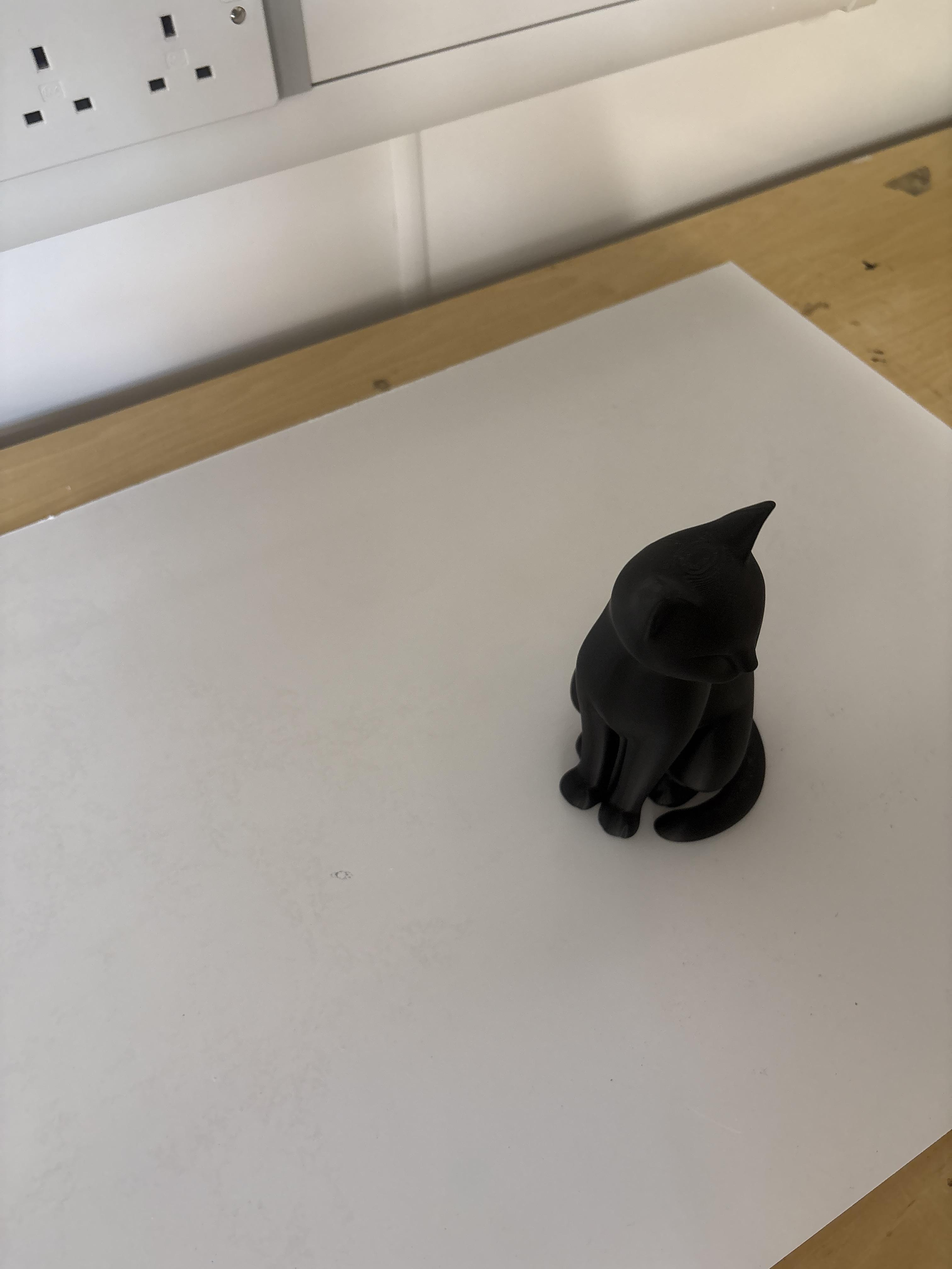cat: (560, 502, 774, 841)
